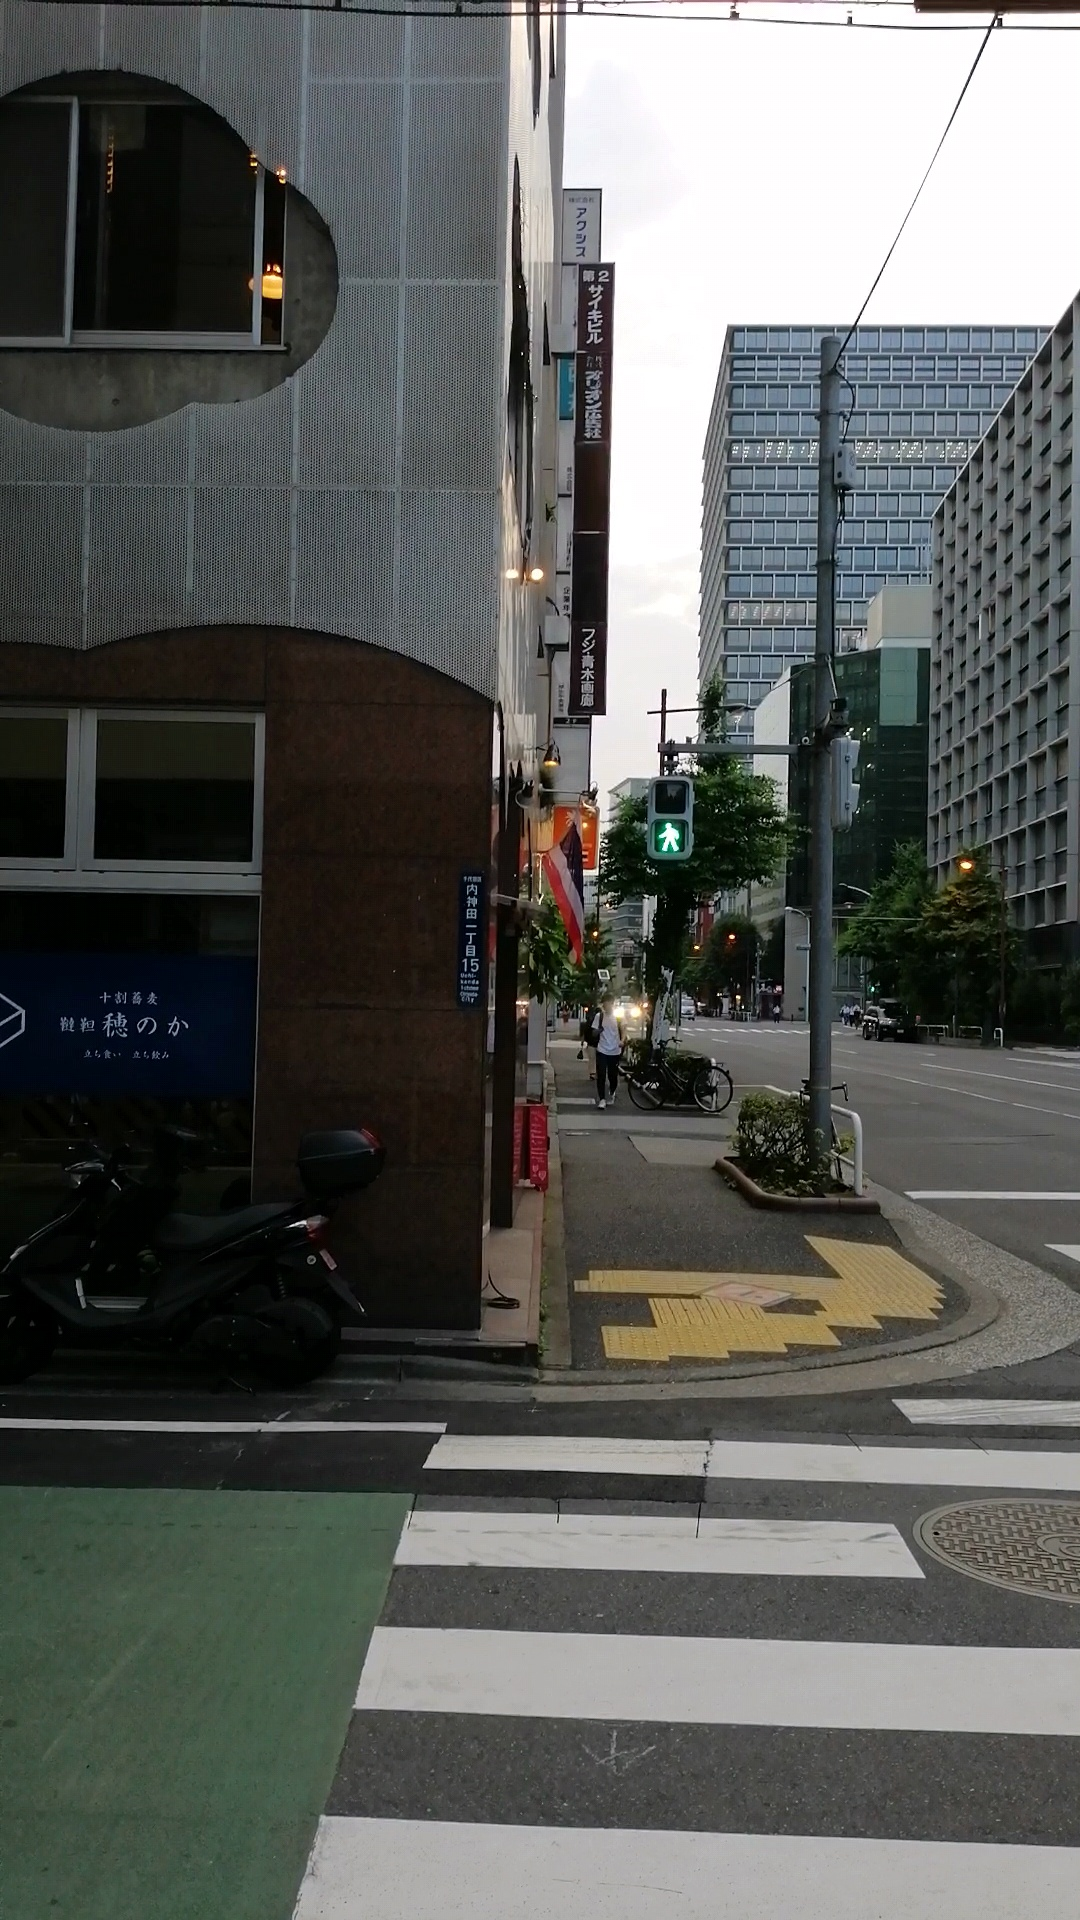green: (647, 775, 692, 861)
